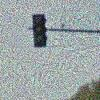traffic lights: (34, 13, 48, 46)
